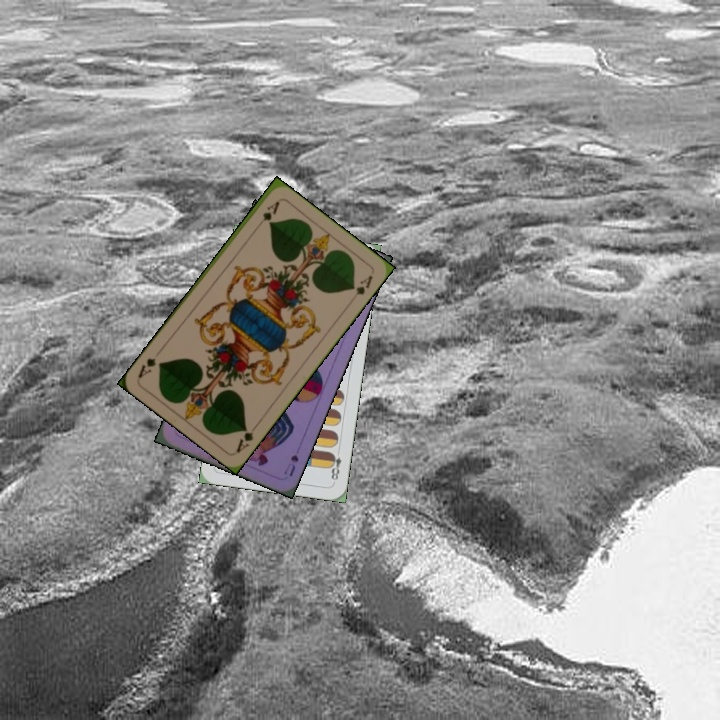E8: (326, 445, 344, 485)
GA: (252, 197, 282, 231), (232, 420, 261, 455)
SU: (280, 450, 301, 479)
